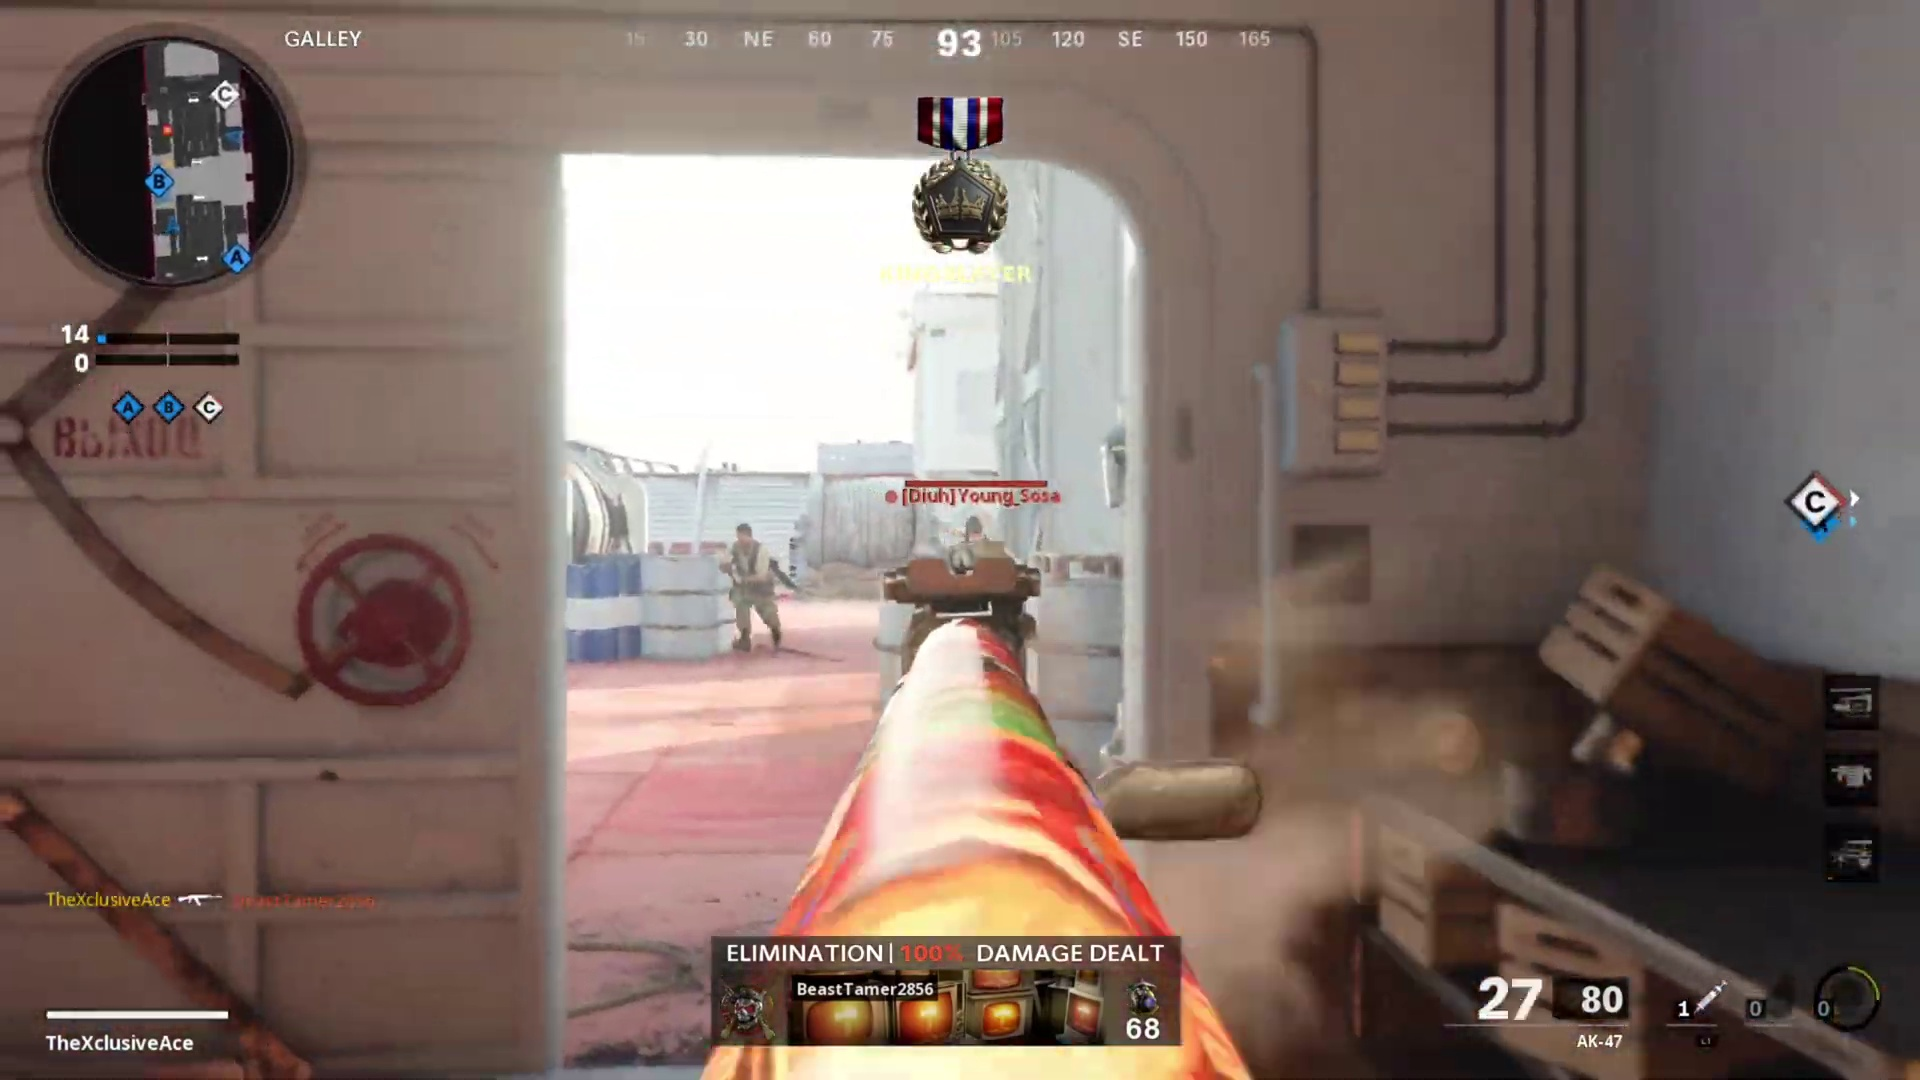head: (960, 515, 988, 548), (732, 516, 757, 549)
person: (716, 522, 785, 649)
